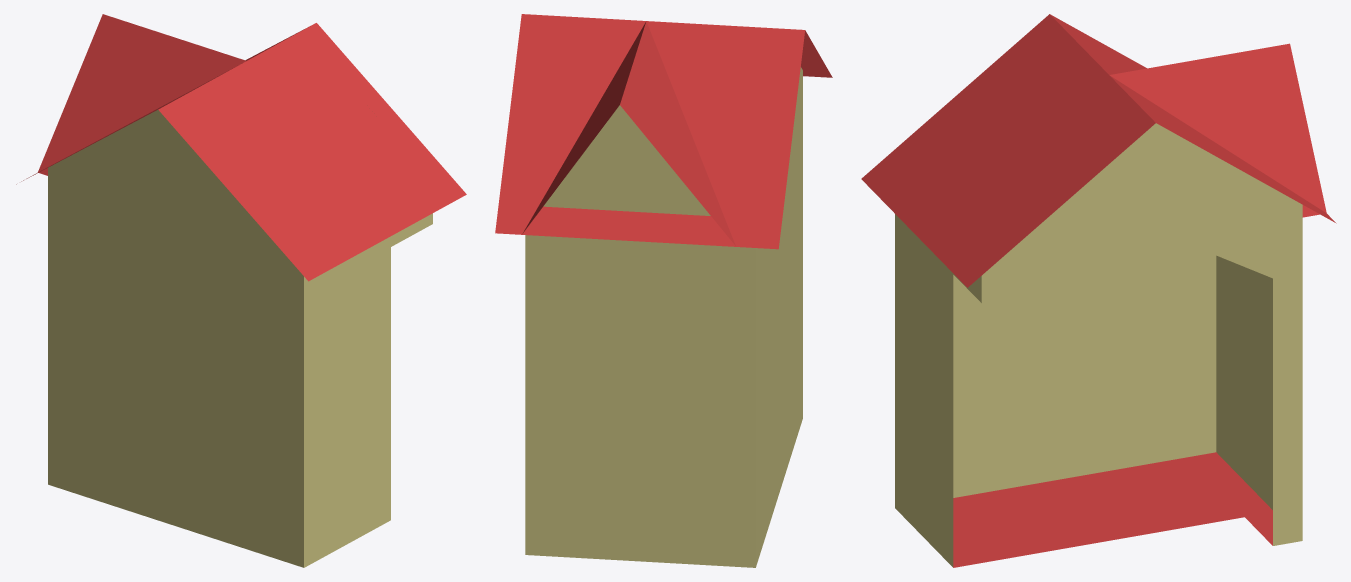
The picture shows the model from 3 angles, left to right: view 1: azimuth 30°, elevation 25°; view 2: azimuth 150°, elevation 25°; view 3: azimuth 270°, elevation 25°; orthographic projection. The views are drawn at different scales.
Size of the model in its own units: 11.83 by 13.71 by 14.48.
